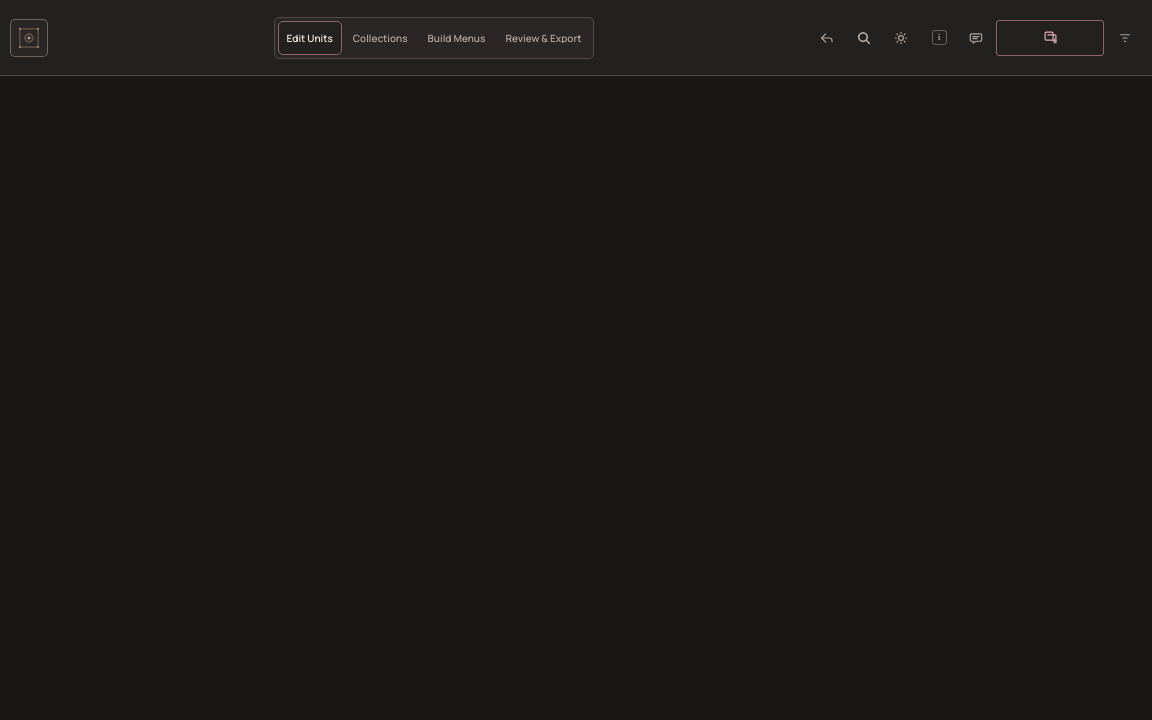
AppHeader › states tool readiness and runtime provenance in the menu
Click the button named "Tools".
click(1125, 38)  # box [1108,20,1142,54]
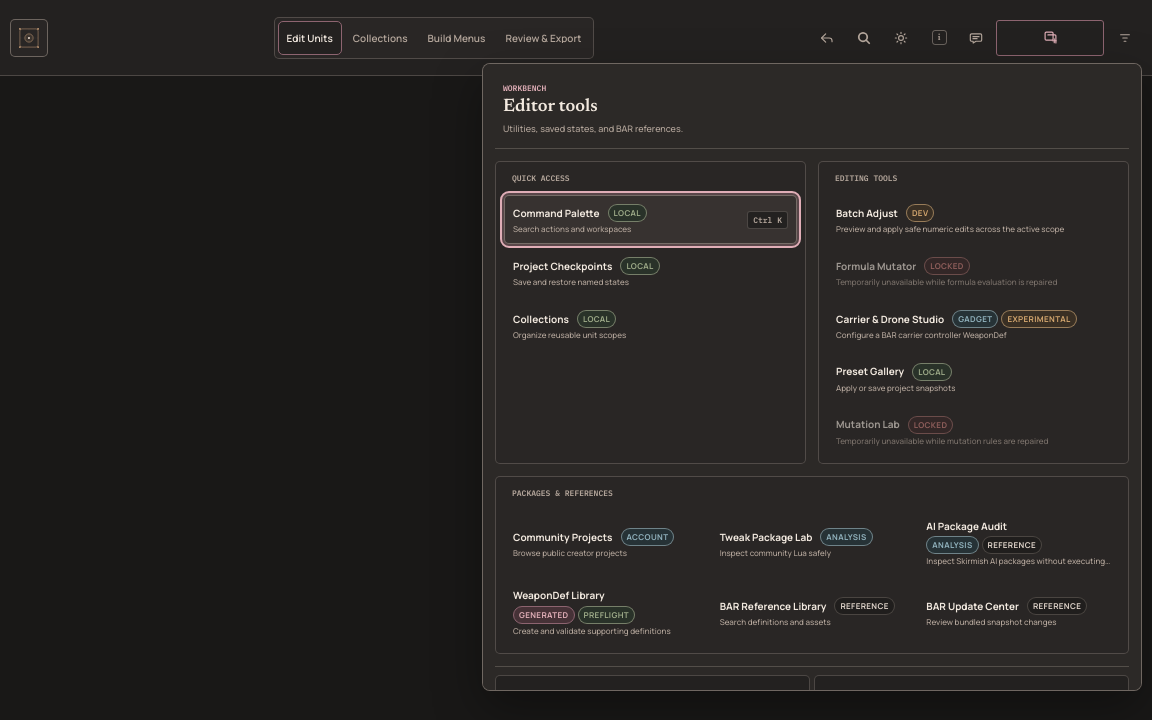
Now the menu item "Batch Adjust" shows "Dev", box [827,195,1120,244]
Now the menu item "Batch Adjust" is enabled, box [827,195,1120,244]
Now the menu item "Formula Mutator" shows "Locked", box [827,248,1120,297]
